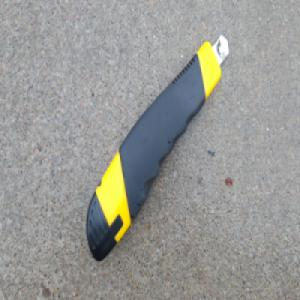Cutter: (85, 35, 230, 264)
